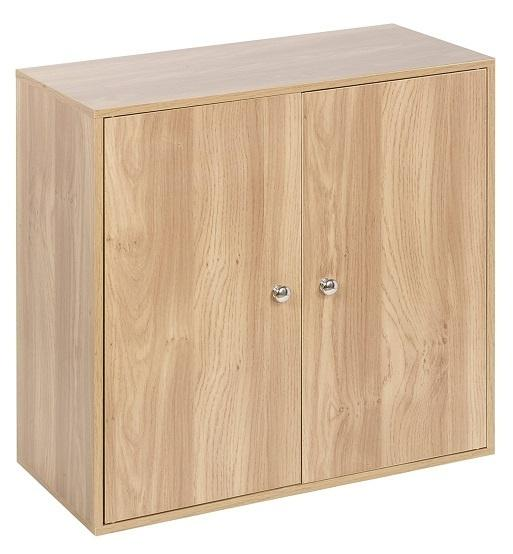cabinet_door: (101, 102, 301, 479), (304, 83, 489, 462)
handle: (320, 273, 339, 304), (272, 280, 291, 310)
